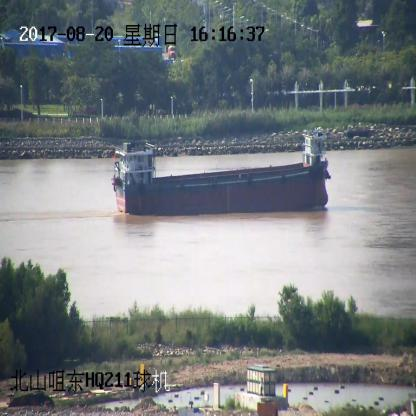Bulk Carrier: (113, 132, 329, 212)
